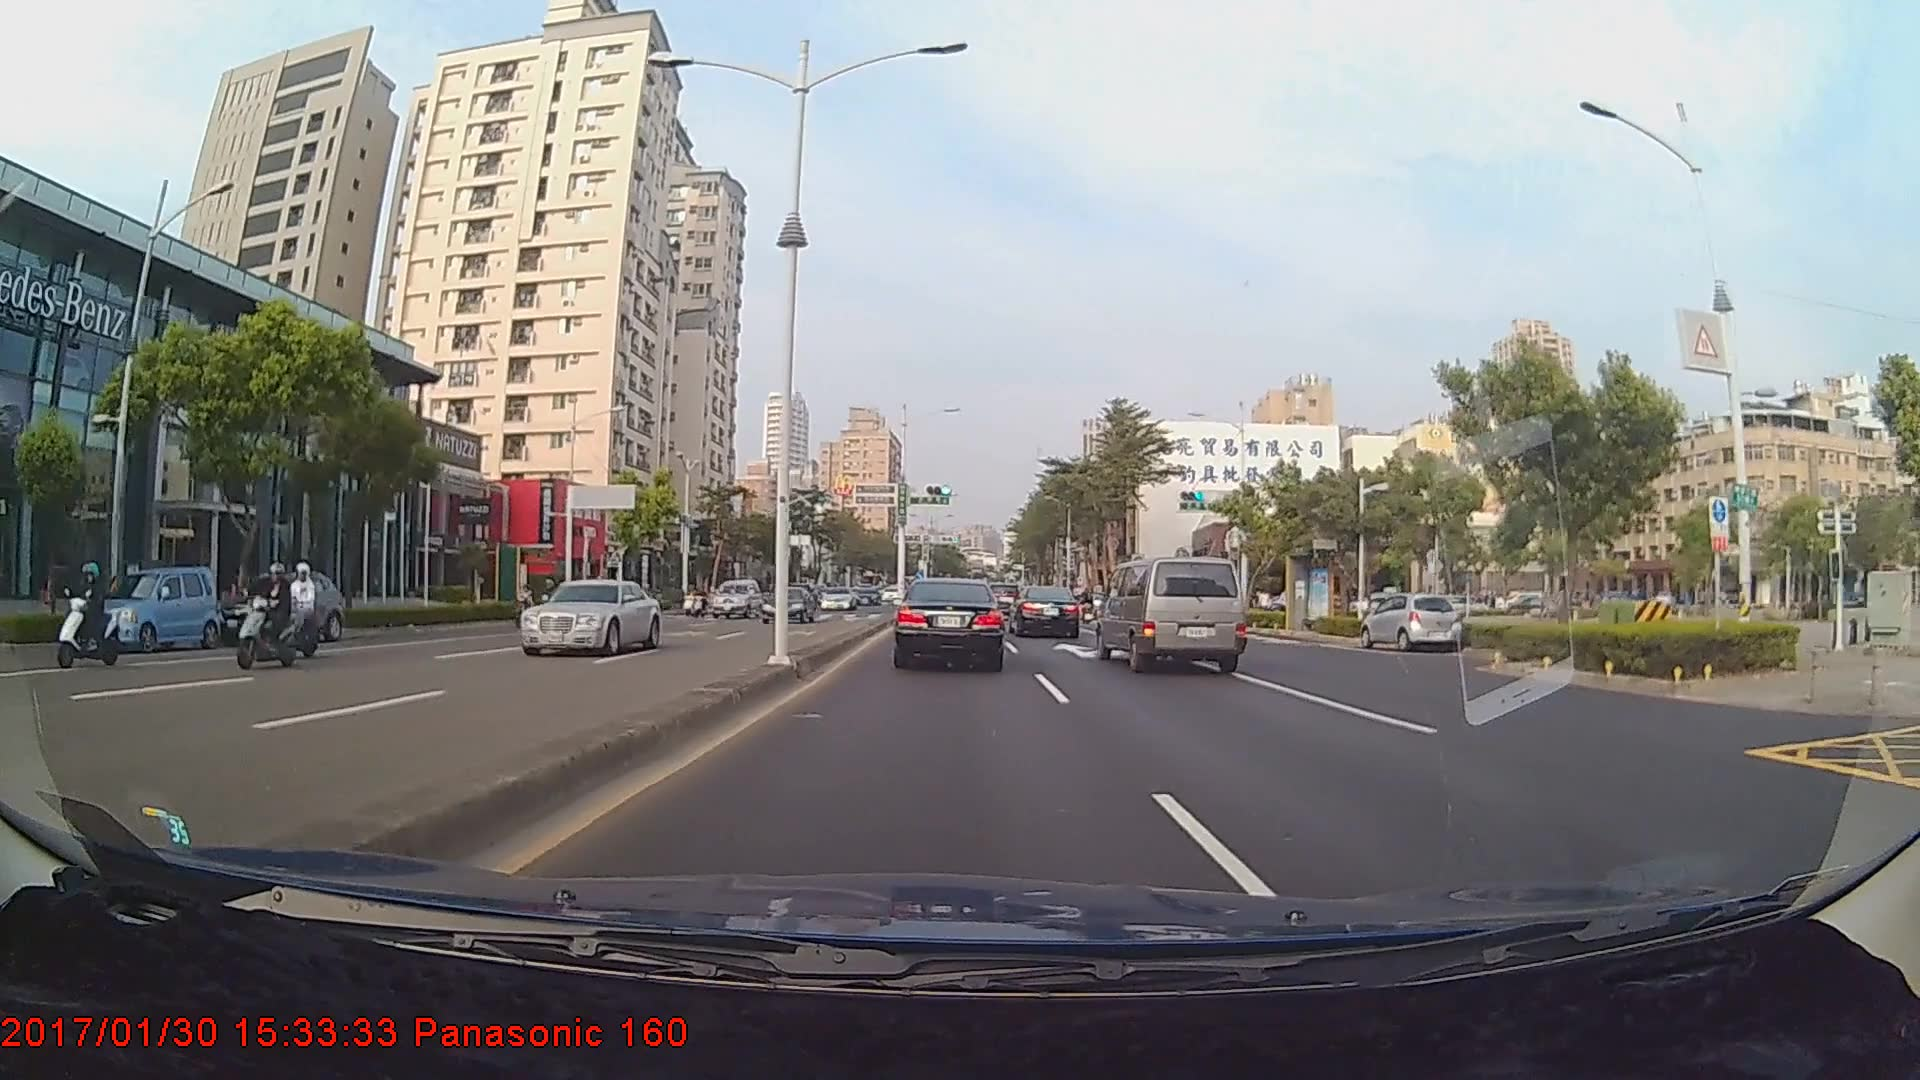rider: (50, 561, 132, 668), (230, 561, 303, 672), (266, 566, 327, 658)
vehicle: (1094, 553, 1246, 673), (91, 566, 222, 654), (514, 579, 659, 656), (896, 576, 1006, 668), (216, 569, 339, 649), (1360, 594, 1461, 653), (1005, 585, 1080, 640), (708, 577, 760, 618), (763, 588, 817, 625), (819, 586, 858, 611)
